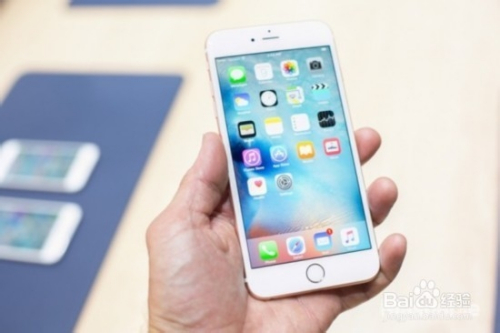phone: (209, 24, 383, 285)
